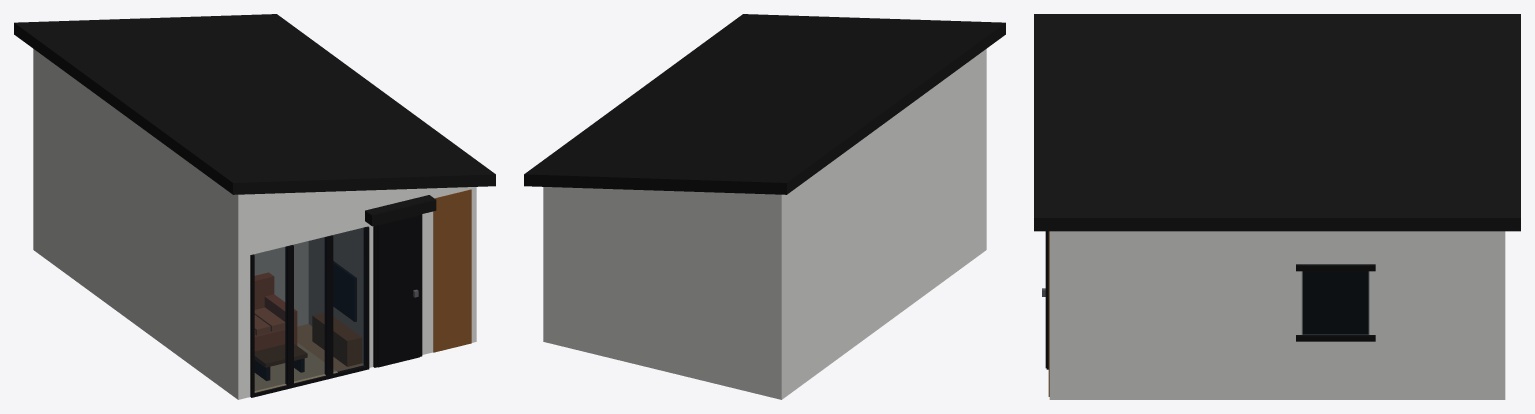
File: rumah-tipe3.glb
3 views of the same model, side by side, from view 1: azimuth 30°, elevation 25°; view 2: azimuth 150°, elevation 25°; view 3: azimuth 270°, elevation 25° (orthographic). The views are drawn at different scales.
Parts seen in each view (by area): view 1: Roof, Body_Left, Infill_Left, Infill_Front, Door_Leaf, WoodPanel, Glass_0, Glass_1, Glass_2, LR_WallR, Body_Right, LR_WallBack (+17 smaller); view 2: Roof, Body_Left, Body_Back, Infill_Left, Body_Right, Body_Mid, Infill_Back; view 3: Roof, Body_Right, SideWin_Glass, SideWin_Backing, SideWin_FrameT, SideWin_FrameB.
Boxes of the visible parts, box(x1,y1,x2,y2) form: Roof: box(14, 14, 495, 194); Body_Left: box(33, 96, 250, 399); Infill_Left: box(37, 52, 233, 242); Infill_Front: box(234, 187, 476, 246); Door_Leaf: box(377, 215, 419, 367); WoodPanel: box(433, 189, 471, 352); Glass_0: box(254, 246, 287, 393); Glass_1: box(293, 237, 326, 383); Glass_2: box(332, 227, 365, 373); LR_WallR: box(309, 228, 363, 363); Body_Right: box(422, 188, 476, 354); LR_WallBack: box(254, 241, 308, 326); Roof: box(524, 14, 1005, 194); Body_Left: box(769, 96, 986, 399); Body_Back: box(652, 214, 769, 396); Infill_Left: box(786, 52, 982, 242); Body_Right: box(543, 188, 598, 355); Body_Mid: box(599, 201, 651, 368); Infill_Back: box(543, 187, 785, 246); Roof: box(1034, 14, 1520, 231); Body_Right: box(1049, 231, 1505, 399); SideWin_Glass: box(1302, 264, 1369, 335); SideWin_Backing: box(1302, 271, 1368, 334); SideWin_FrameT: box(1296, 264, 1375, 271); SideWin_FrameB: box(1296, 335, 1375, 341).
Size of the model in its own units: 0.694 by 0.568 by 1.
